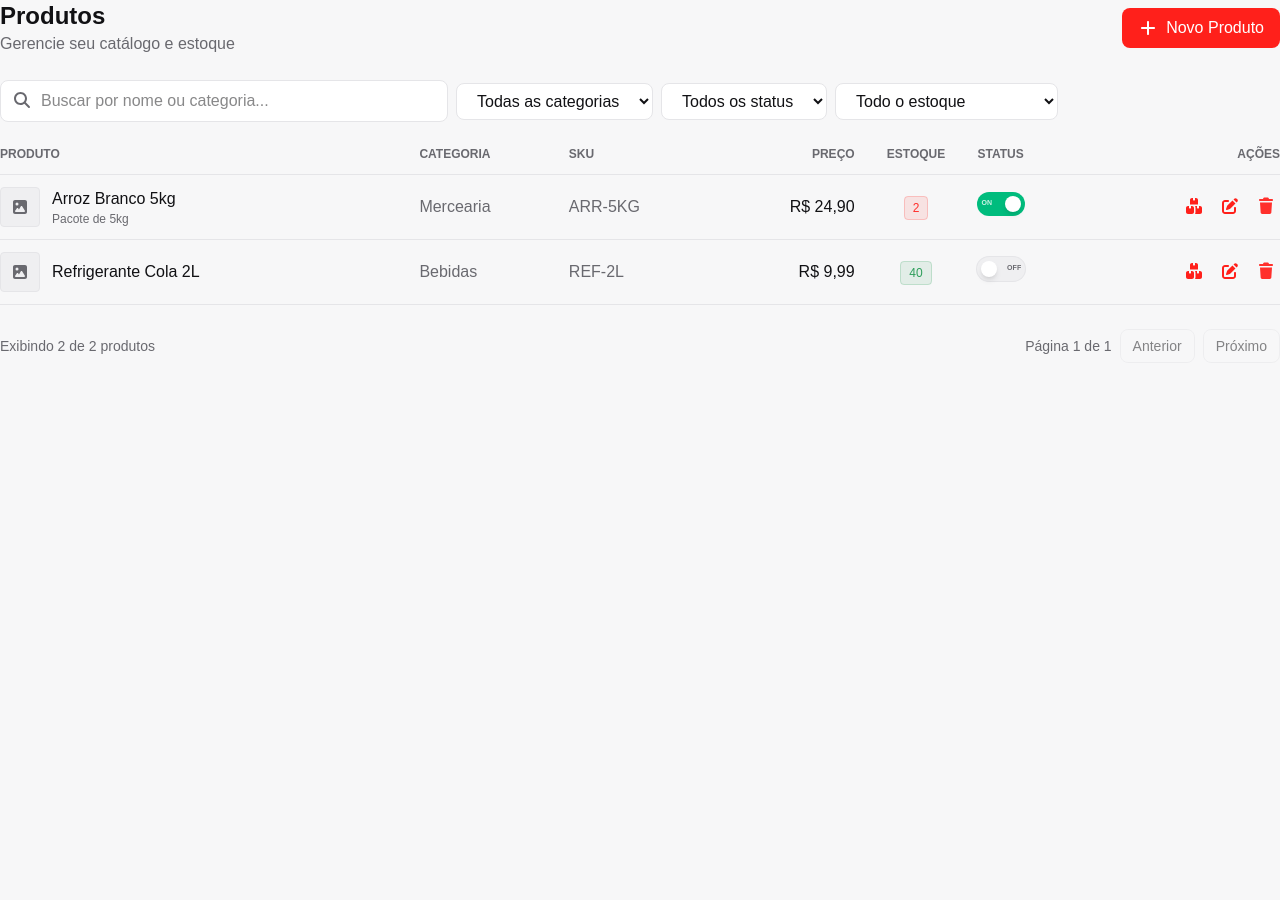
ProductsPage — modal de estoque › pagina o histórico de movimentações
Step 1. Click the button named "estoque" → (1196, 207), box [1184, 195, 1208, 219]
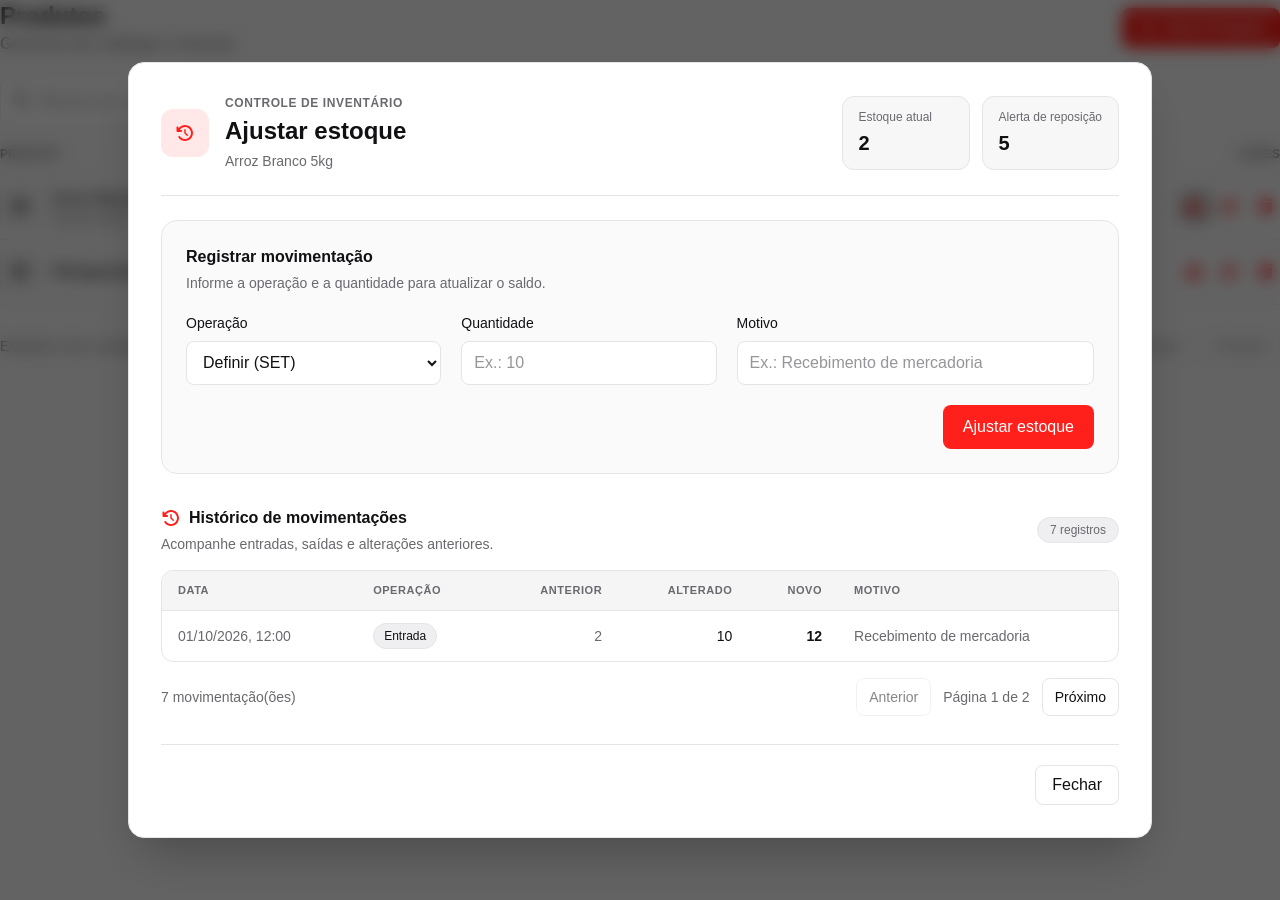
Expected: the text "Recebimento de mercadoria" is shown, [838, 611, 1118, 661]
Step 2. Click the button "Próximo" → (1080, 697), box [1042, 678, 1119, 716]
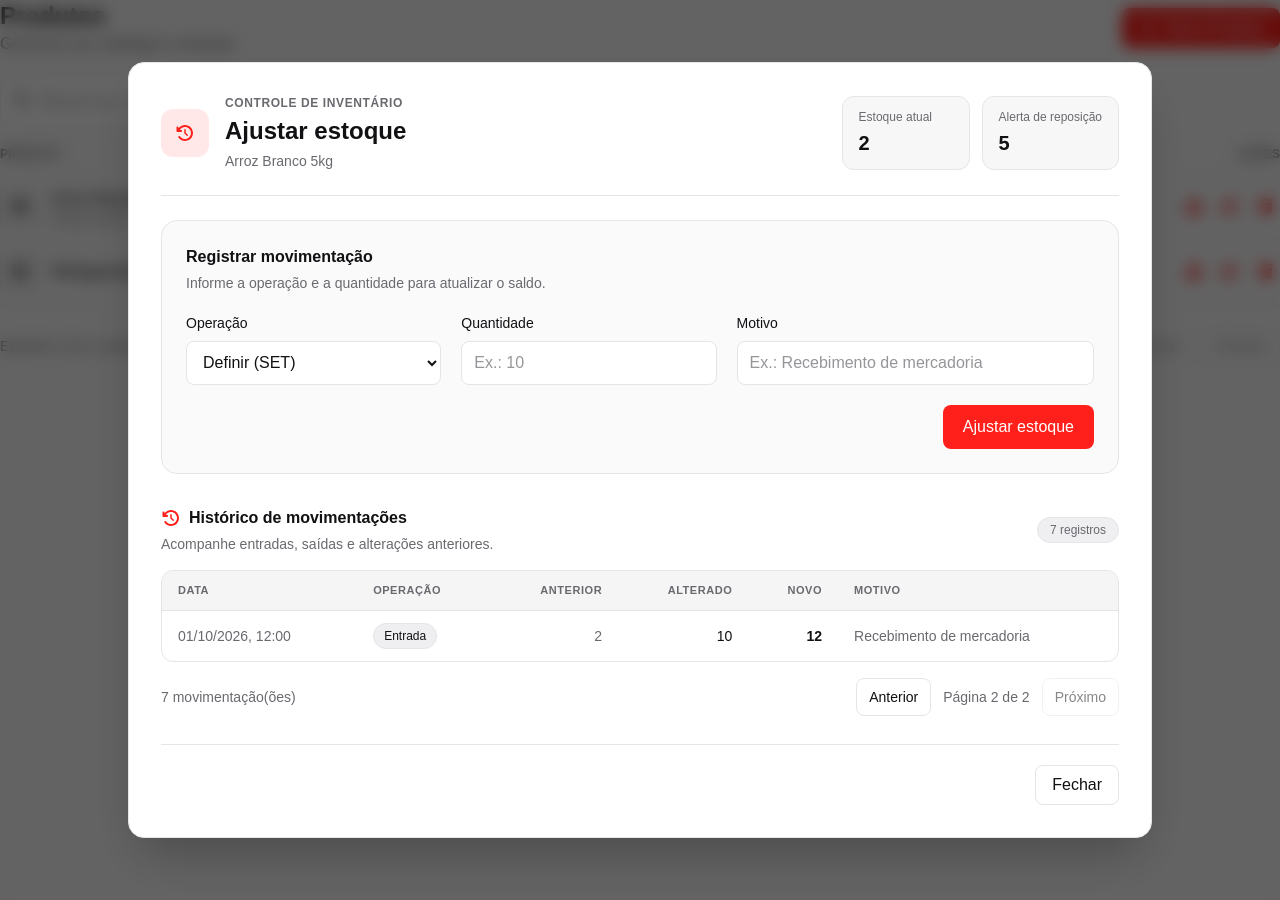
Expected: the text "Página 2 de 2" is shown, [939, 687, 1034, 707]
